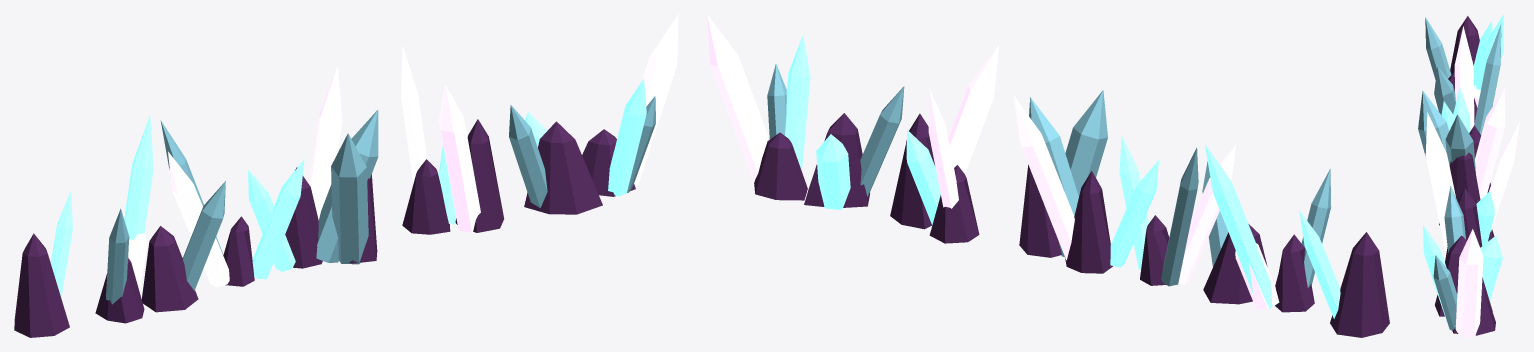
The model's file is W4_Far_CrystalSpires.fbx.
The picture shows the model from 3 angles, left to right: view 1: azimuth 30°, elevation 25°; view 2: azimuth 150°, elevation 25°; view 3: azimuth 270°, elevation 25°; orthographic projection. The views are drawn at different scales.
Visible parts, largest first — view 1: W4_Far_CrystalSpires; view 2: W4_Far_CrystalSpires; view 3: W4_Far_CrystalSpires.
Boxes of the visible parts, box(x1,y1,x2,y2) form: W4_Far_CrystalSpires: box(14, 14, 678, 337); W4_Far_CrystalSpires: box(707, 14, 1389, 337); W4_Far_CrystalSpires: box(1418, 14, 1519, 337).
Size of the model in its own units: 508 by 124 by 81.47.
